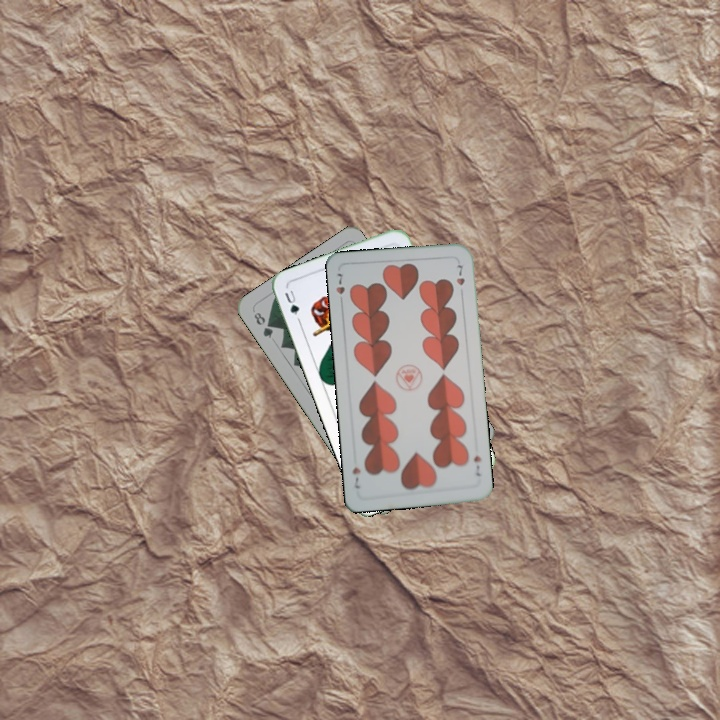G8: (250, 308, 276, 341)
GU: (280, 284, 303, 324)
H7: (332, 269, 347, 307), (470, 452, 483, 479)
